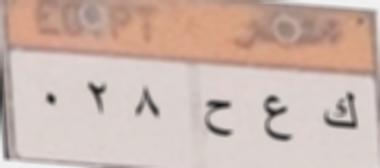0: (40, 84, 63, 116)
2: (84, 72, 114, 120)
7aa: (203, 94, 236, 146)
8: (131, 84, 166, 126)
ain: (260, 90, 298, 151)
kaaf: (321, 86, 364, 137)
